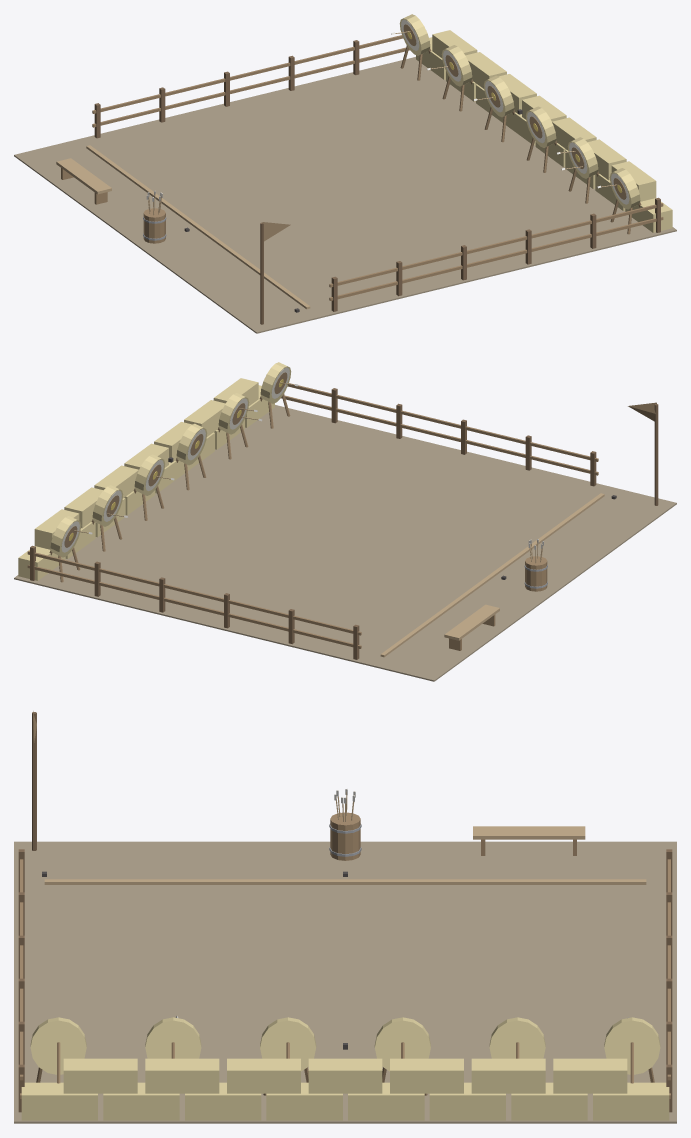
Rendered from archery_range.glb.
3 views of the same model, one above another, from view 1: azimuth 30°, elevation 25°; view 2: azimuth 150°, elevation 25°; view 3: azimuth 270°, elevation 25° (orthographic). The views are drawn at different scales.
Visible parts, largest first — view 1: Ground, Line, Fence.Rail#2, Fence.Rail, Fence.Rail#3, Fence.Rail#4, Bale#12, Bench, Bale#6, Bale, Bale#2, Bale#4 (+11 smaller); view 2: Ground, Line, Fence.Rail#4, Fence.Rail#3, Fence.Rail, Fence.Rail#2, Bale#4, Bench, Bale#10, Bale#15, Bale#14, Bale#12 (+12 smaller); view 3: Ground, Line, Bale#2, Bale#4, Bale#12, Bale#14, Bale#8, Bale#6, Bale#10, Bale, Bale#15, Target (+16 smaller).
Boxes of the visible parts, left/top/right/bottom form: Ground: left=14, top=57, right=676, bottom=333; Line: left=86, top=145, right=310, bottom=309; Fence.Rail#2: left=329, top=203, right=663, bottom=287; Fence.Rail: left=329, top=217, right=663, bottom=300; Fence.Rail#3: left=92, top=47, right=409, bottom=127; Fence.Rail#4: left=92, top=35, right=403, bottom=113; Bale#12: left=465, top=52, right=506, bottom=88; Bench: left=56, top=158, right=111, bottom=194; Bale#6: left=552, top=117, right=596, bottom=150; Bale: left=625, top=198, right=672, bottom=232; Bale#2: left=611, top=161, right=656, bottom=201; Bale#4: left=588, top=139, right=626, bottom=180; Ground: left=14, top=405, right=676, bottom=681; Line: left=380, top=493, right=604, bottom=657; Fence.Rail#4: left=27, top=551, right=361, bottom=635; Fence.Rail#3: left=27, top=565, right=361, bottom=648; Fence.Rail: left=281, top=395, right=598, bottom=475; Fence.Rail#2: left=287, top=383, right=598, bottom=461; Bale#4: left=184, top=400, right=225, bottom=436; Bench: left=444, top=604, right=499, bottom=640; Bale#10: left=94, top=465, right=138, bottom=498; Bale#15: left=18, top=546, right=65, bottom=580; Bale#14: left=34, top=509, right=79, bottom=549; Bale#12: left=64, top=487, right=102, bottom=528; Ground: left=14, top=841, right=676, bottom=1123; Line: left=44, top=879, right=646, bottom=884; Bale#2: left=63, top=1058, right=137, bottom=1093; Bale#4: left=145, top=1058, right=219, bottom=1093; Bale#12: left=471, top=1058, right=545, bottom=1093; Bale#14: left=553, top=1058, right=627, bottom=1093; Bale#8: left=308, top=1058, right=382, bottom=1093; Bale#6: left=227, top=1058, right=300, bottom=1093; Bale#10: left=390, top=1058, right=463, bottom=1093; Bale: left=21, top=1082, right=97, bottom=1120; Bale#15: left=593, top=1082, right=669, bottom=1120; Target: left=30, top=1017, right=86, bottom=1074.
Size of the model in its own units: 13 by 3.07 by 13.
